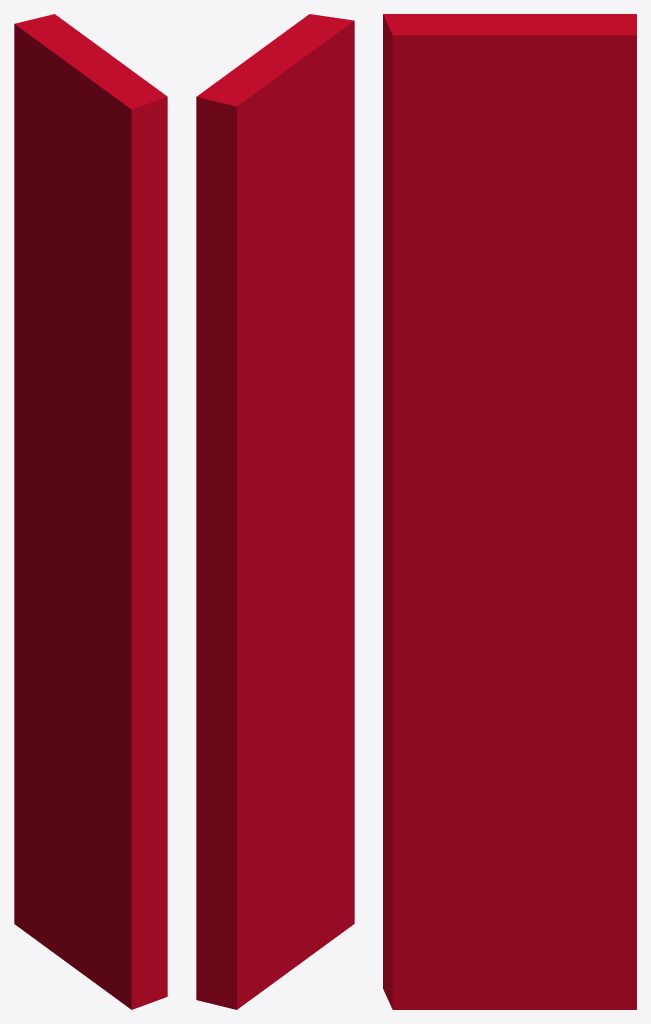
Rendered from simple_example_hole_part_38.obj.
3 views of the same model, side by side, from view 1: azimuth 30°, elevation 25°; view 2: azimuth 150°, elevation 25°; view 3: azimuth 270°, elevation 25° (orthographic). The views are drawn at different scales.
Bounding box in the file's own units: 3.41 × 72.79 × 17.19.
